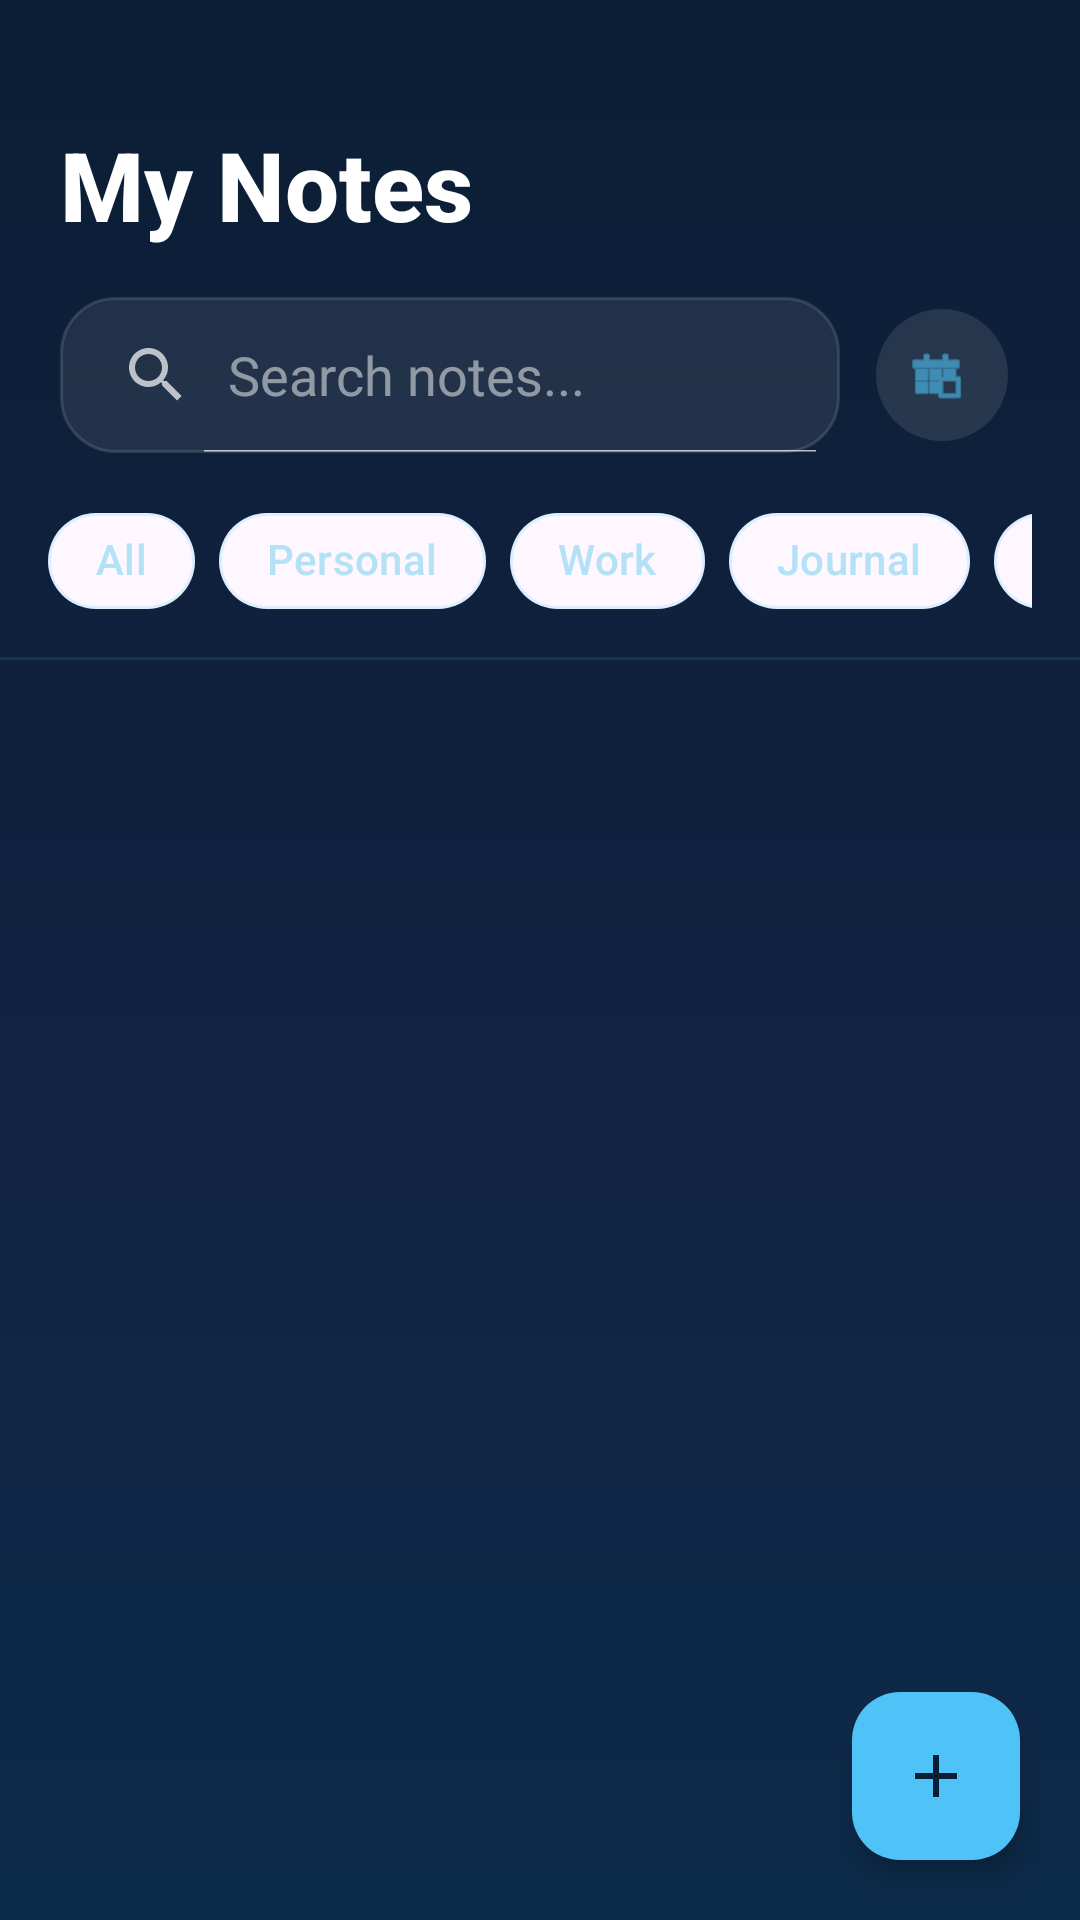

Locate icon controls on the screen. Image size 1080w x 1920h, boxes as (x1, y1, x2, y2).
Add note: (852, 1692, 1020, 1860)
today: (877, 309, 1007, 441)
